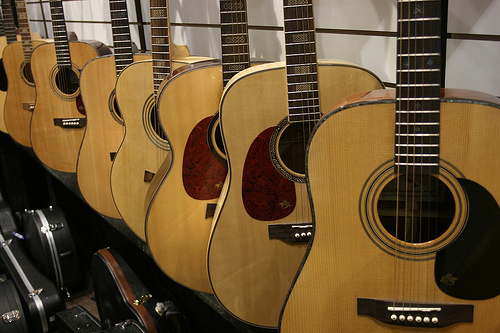guitar: (282, 1, 499, 333), (212, 1, 389, 327), (153, 2, 258, 299), (110, 1, 199, 245), (78, 1, 144, 222), (30, 1, 107, 176), (5, 1, 45, 149)
